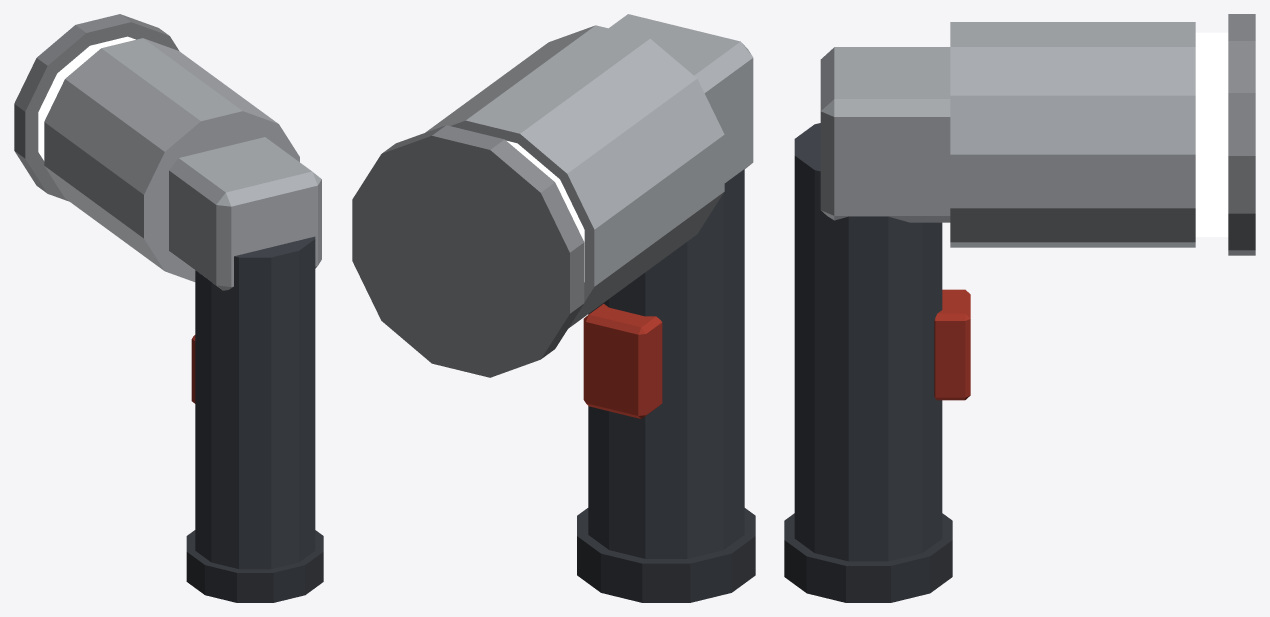
File: Flashlight.glb
3 renders of one model, left to right at view 1: azimuth 30°, elevation 25°; view 2: azimuth 150°, elevation 25°; view 3: azimuth 270°, elevation 25°, orthographic. The views are drawn at different scales.
Visible parts, largest first — view 1: Head, Handle, Glow; view 2: Head, Handle, Glow; view 3: Head, Handle, Glow.
Part boxes in pixels (<box>): Head: <box>14,14,321,290</box>; Handle: <box>186,236,323,602</box>; Glow: <box>38,36,135,160</box>; Head: <box>352,14,753,377</box>; Handle: <box>577,169,755,602</box>; Glow: <box>506,140,584,281</box>; Head: <box>820,14,1255,255</box>; Handle: <box>784,123,970,602</box>; Glow: <box>1195,32,1228,236</box>.
Bounding box in the file's own units: 0.8693 × 2.18 × 1.73.
